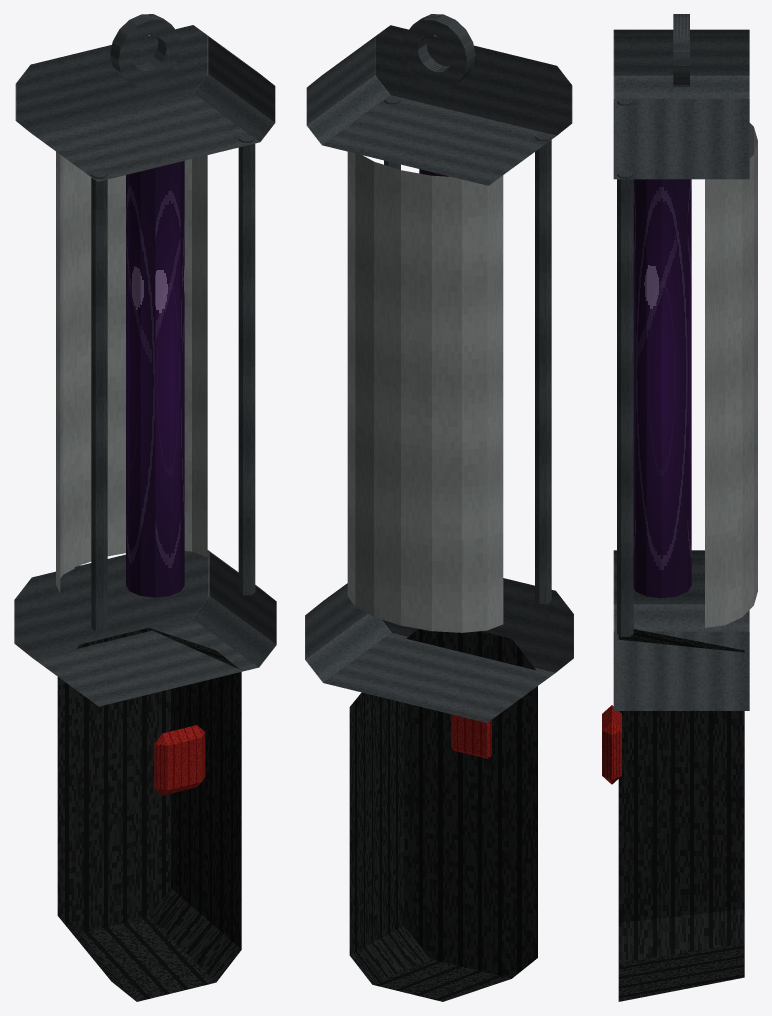
Rendered from blender_uv_light_3.glb.
3 renders of one model, left to right at view 1: azimuth 30°, elevation 25°; view 2: azimuth 150°, elevation 25°; view 3: azimuth 270°, elevation 25°, orthographic. The views are drawn at different scales.
Parts seen in each view (by area): view 1: blender_uv_light_3; view 2: blender_uv_light_3; view 3: blender_uv_light_3.
Part boxes in pixels (x1,y1,x2,y2): blender_uv_light_3: (14,14,276,1001); blender_uv_light_3: (305,14,573,1001); blender_uv_light_3: (602,14,757,1001).
Size of the model in its own units: 0.069 by 0.321 by 0.047.
Materials: 5 (5 with a texture image).
